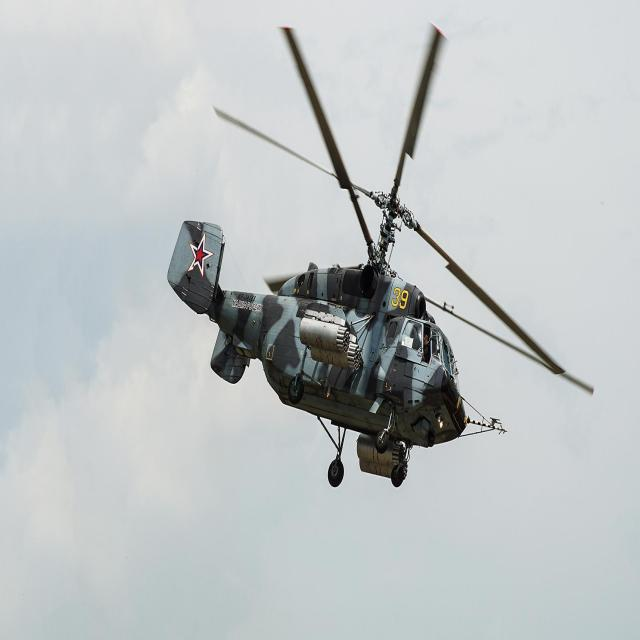MIL_HELO: (154, 12, 600, 506)
